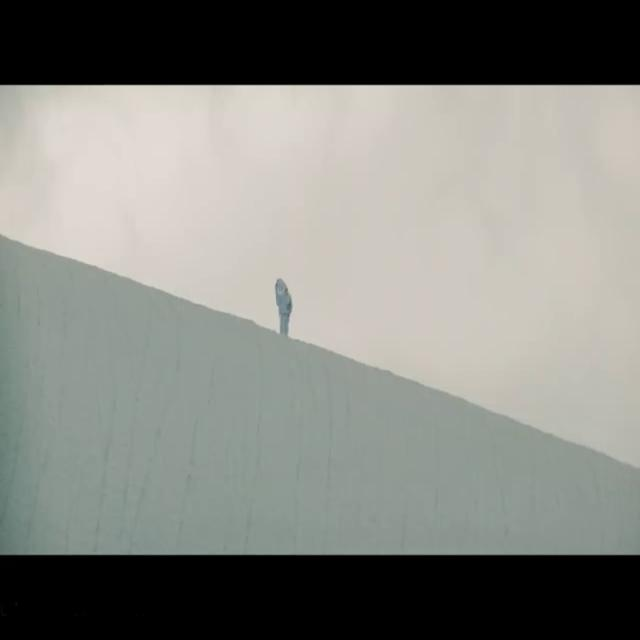Human: (272, 275, 292, 341)
